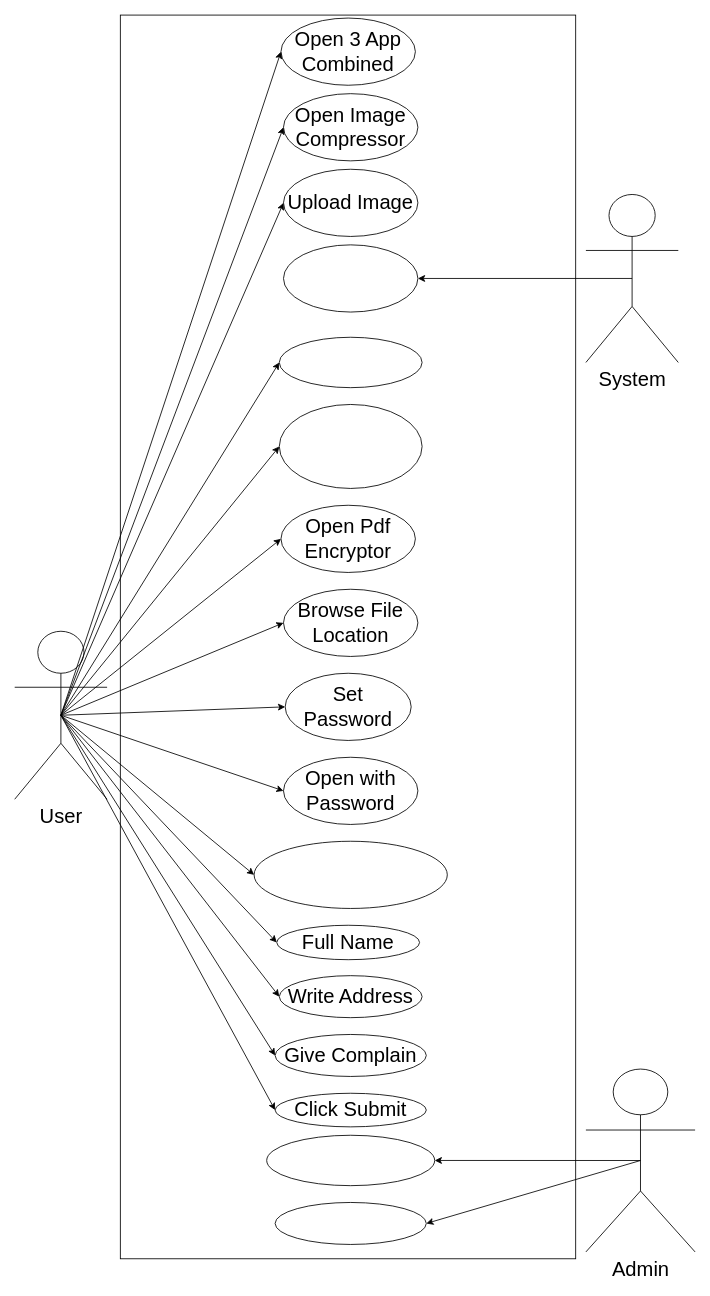
Image size: 710x1296. Some labels were removed from this diagram. The shapes that lost their labels are listed below. From the top down, each one's centre as x and y in pixels, then its label:
At point 350,278: "Compress Image".
At point 350,362: "Download Image".
At point 350,446: "View Compressed Image".
At point 350,874: "Open Complaint Management".
At point 350,1160: "Oversee System".
At point 350,1223: "Manage Users".
